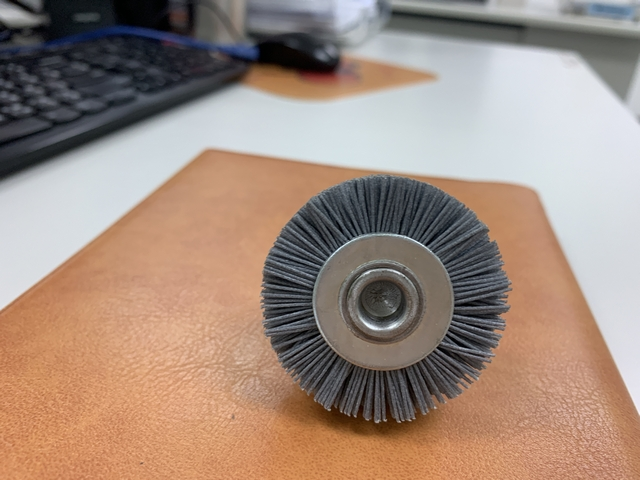Wheel Brush: (248, 171, 516, 430), (260, 173, 486, 421), (242, 167, 460, 414)
